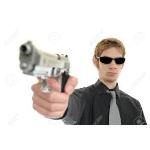Pistol: (17, 37, 72, 98)
